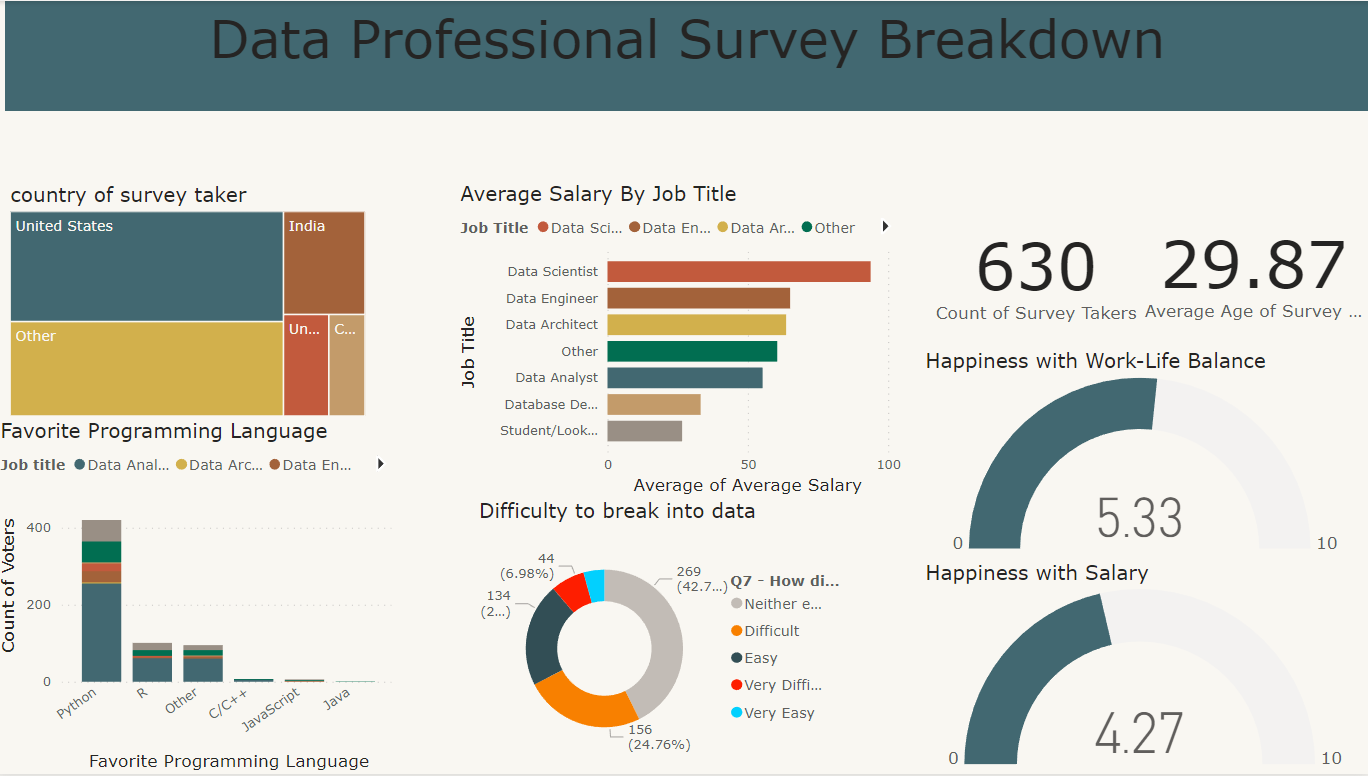

What the dashboard file says about the page in this screenshot:
{"tool":"powerbi","page":{"name":"Page 1","canvas":[1280,720],"ordinal":0},"visuals":[{"type":"textbox","box":[9.8,0,1270.1,102.7],"z":0},{"type":"card","fields":{"Values":["Count(Data Professional Survey.Unique ID)"]},"box":[867.9,168.7,202.9,167.5],"z":1000},{"type":"card","fields":{"Values":["Avg(Data Professional Survey.Q10 - Current Age)"]},"box":[1063.8,167,216.2,168.5],"z":2000},{"type":"barChart","title":"Average Salary By Job Title","fields":{"Category":["Data Professional Survey.Q1 - Which Title Best Fits your Current Role?.1"],"Y":["Avg(Data Professional Survey.Average Salary)"],"Series":["Data Professional Survey.Q1 - Which Title Best Fits your Current Role?.1"]},"box":[427.8,167.5,420.5,297],"z":3000},{"type":"columnChart","title":"Favorite Programming Language","fields":{"Category":["Data Professional Survey.Q5 - Favorite Programming Language.1"],"Y":["CountNonNull(Data Professional Survey.Unique ID)"],"Series":["Data Professional Survey.Q1 - Which Title Best Fits your Current Role?.1"]},"box":[0,388.3,378.5,332.3],"z":4000},{"type":"treemap","title":"country of survey taker","fields":{"Group":["Data Professional Survey.Q11 - Which Country do you live in?.1"],"Values":["CountNonNull(Data Professional Survey.Q11 - Which Country do you live in?.1)"]},"box":[9.8,168.7,339.8,222.5],"z":5000},{"type":"gauge","title":"Happiness with Work-Life Balance","fields":{"Y":["Avg(Data Professional Survey.Q6 - How Happy are you in your Current Position with the following? (Management))"],"MinValue":["Min(Data Professional Survey.Q6 - How Happy are you in your Current Position with the following? (Management))"],"MaxValue":["Max(Data Professional Survey.Q6 - How Happy are you in your Current Position with the following? (Management))1"]},"box":[860.8,323.9,419.2,196.3],"z":5001},{"type":"gauge","title":"Happiness with Salary","fields":{"Y":["Avg(Data Professional Survey.Q6 - How Happy are you in your Current Position with the following? (Salary))"],"MinValue":["Min(Data Professional Survey.Q6 - How Happy are you in your Current Position with the following? (Salary))"],"MaxValue":["Max(Data Professional Survey.Q6 - How Happy are you in your Current Position with the following? (Salary))1"]},"box":[860.8,520.1,419.2,200.5],"z":5002},{"type":"donutChart","title":"Difficulty to break into data","fields":{"Category":["Data Professional Survey.Q7 - How difficult was it for you to break into Data?"],"Y":["CountNonNull(Data Professional Survey.Q7 - How difficult was it for you to break into Data?)"]},"box":[446.2,463.3,344.7,256.7],"z":5003}]}

Visuals, with their boxes in screenshot pixels (x1, y1, x2, y2), scaled from the page's 1280x720 canvas onto the 1368x776 screenshot:
textbox: detection(10, 0, 1367, 111)
card - Count(Data Professional Survey.Unique ID): detection(928, 182, 1144, 362)
card - Avg(Data Professional Survey.Q10 - Current Age): detection(1137, 180, 1367, 362)
"Average Salary By Job Title" barChart: detection(457, 181, 907, 501)
"Favorite Programming Language" columnChart: detection(0, 419, 405, 775)
"country of survey taker" treemap: detection(10, 182, 374, 422)
"Happiness with Work-Life Balance" gauge: detection(920, 349, 1367, 561)
"Happiness with Salary" gauge: detection(920, 561, 1367, 775)
"Difficulty to break into data" donutChart: detection(477, 499, 845, 775)
